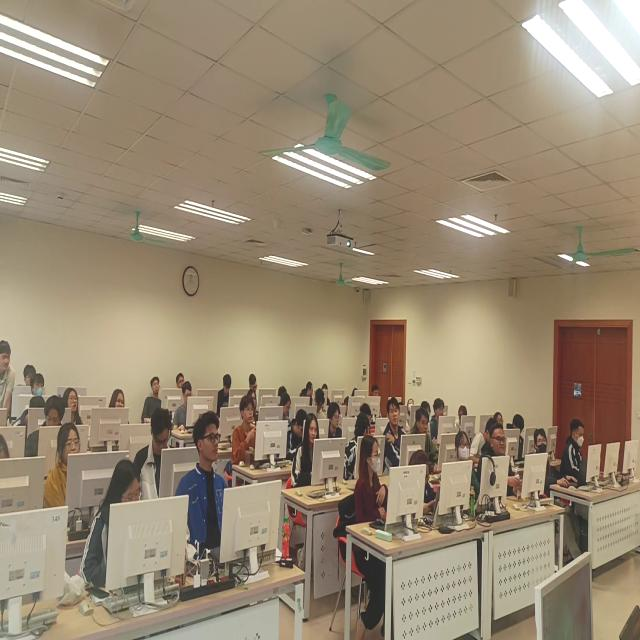raise_head: (171, 408, 232, 553), (480, 425, 523, 497), (532, 421, 572, 491), (457, 428, 482, 503), (383, 397, 407, 474), (232, 395, 258, 465), (415, 405, 440, 471), (140, 374, 164, 424), (65, 385, 86, 429), (430, 396, 448, 440), (28, 368, 50, 403), (109, 386, 129, 417), (422, 399, 434, 442), (1, 429, 14, 463), (24, 363, 39, 390), (249, 386, 260, 417), (407, 395, 417, 428), (177, 371, 188, 392), (495, 409, 505, 429)
stand: (1, 334, 20, 428)
using_computer: (81, 457, 148, 604), (134, 406, 174, 504), (43, 419, 84, 511), (26, 393, 68, 461), (293, 413, 322, 495), (559, 416, 589, 485), (14, 389, 49, 429), (472, 414, 496, 462), (173, 381, 194, 434), (287, 407, 307, 460), (508, 414, 527, 463), (327, 400, 343, 441), (364, 400, 378, 439), (219, 372, 233, 411), (371, 382, 385, 419), (314, 384, 328, 420), (280, 390, 294, 425), (249, 373, 263, 398), (323, 383, 334, 406), (343, 395, 353, 418), (278, 383, 287, 397), (352, 387, 361, 400)
using_phone: (407, 447, 441, 525)
